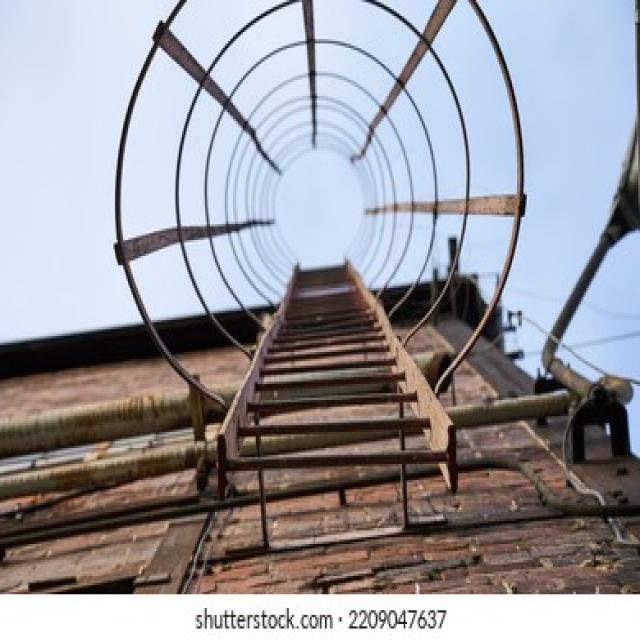corrosion: (0, 0, 640, 593)
